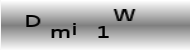1: (96, 25, 109, 38)
D: (24, 14, 40, 27)
W: (113, 7, 136, 21)
i: (71, 22, 76, 35)
m: (50, 28, 69, 39)
